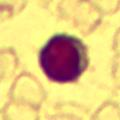lymphocyte: (38, 32, 91, 83)
